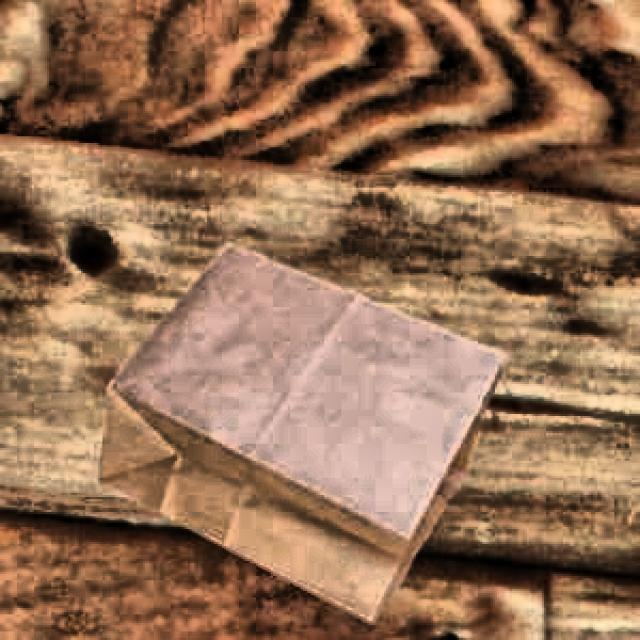Paper-bag: (84, 240, 520, 636)
